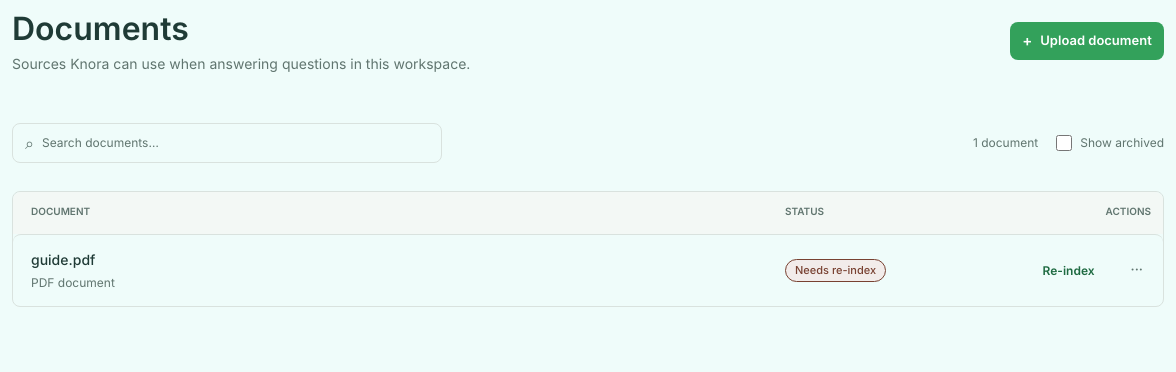
Test: document management › shows backend re-index readiness and reuses the key after an ambiguous failure
Expected: the text "Needs re-index" is shown, [785,259,886,282]
Click the button with aria-label "Re-index guide.pdf" at (1069, 270), box [1029,250,1109,290]
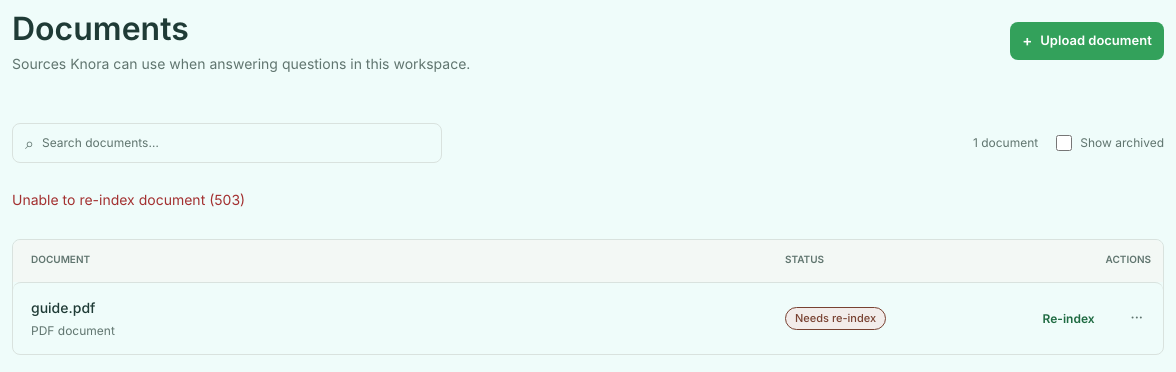
Expected: the message "Unable to re-index document (503)" is shown, [12,192,245,209]
Click the button with aria-label "Re-index guide.pdf" at (1069, 318), box [1029,298,1109,338]
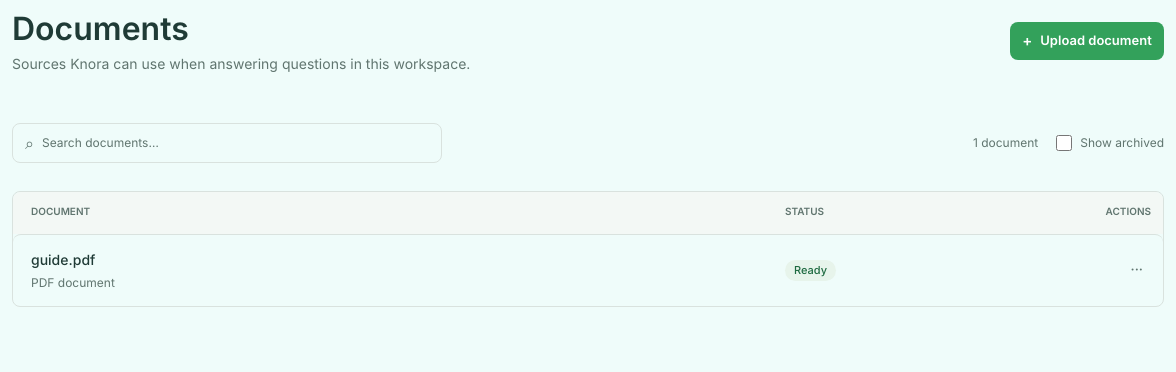
Expected: the text "Ready" is shown, [785,260,836,281]
